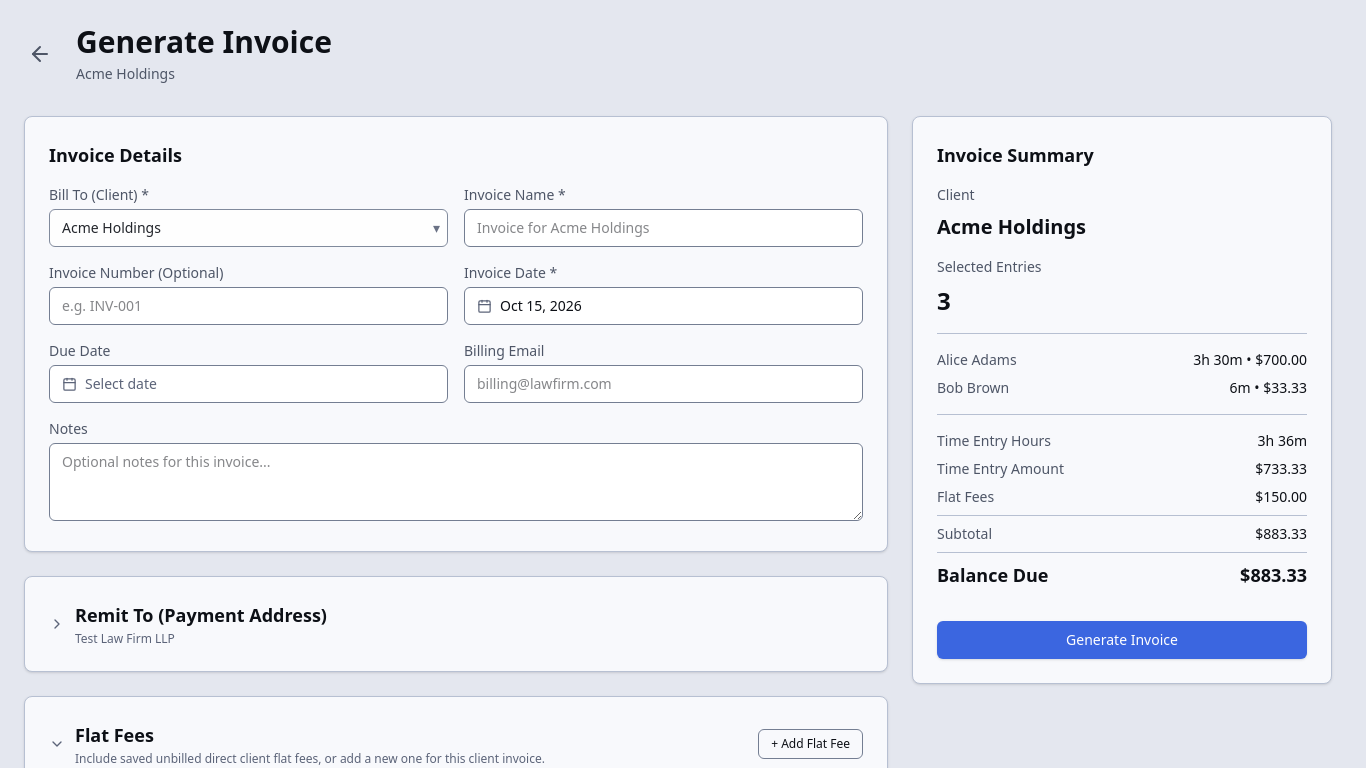
Scenario: client generate-invoice submit › shows the server refusal and stays on the page when the create fails
This screenshot has width=1366, height=768.
Type "March work" into the field with placeholder "Invoice for Acme Holdings" at [664, 228], box 464,209 -> 863,247
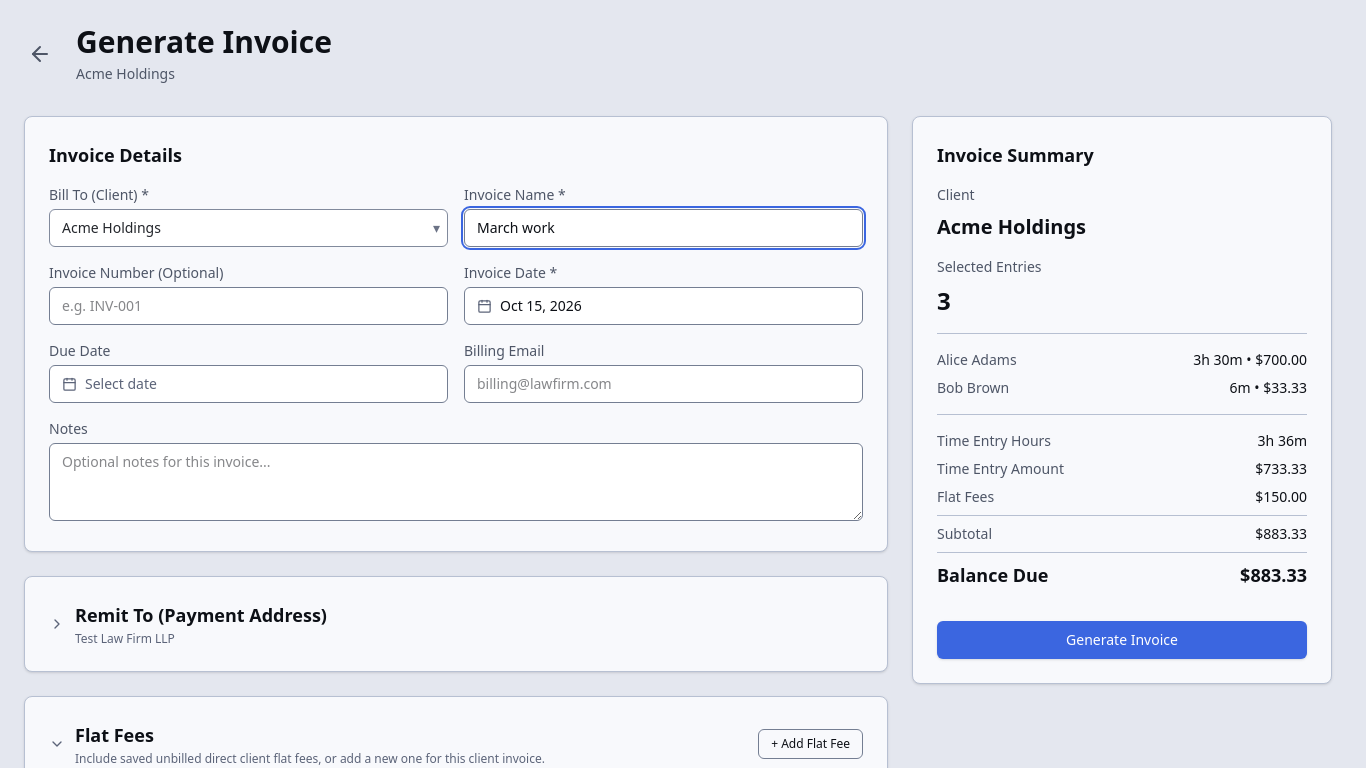
Click the button "Generate Invoice" at [1122, 640], box 937,621 -> 1307,659
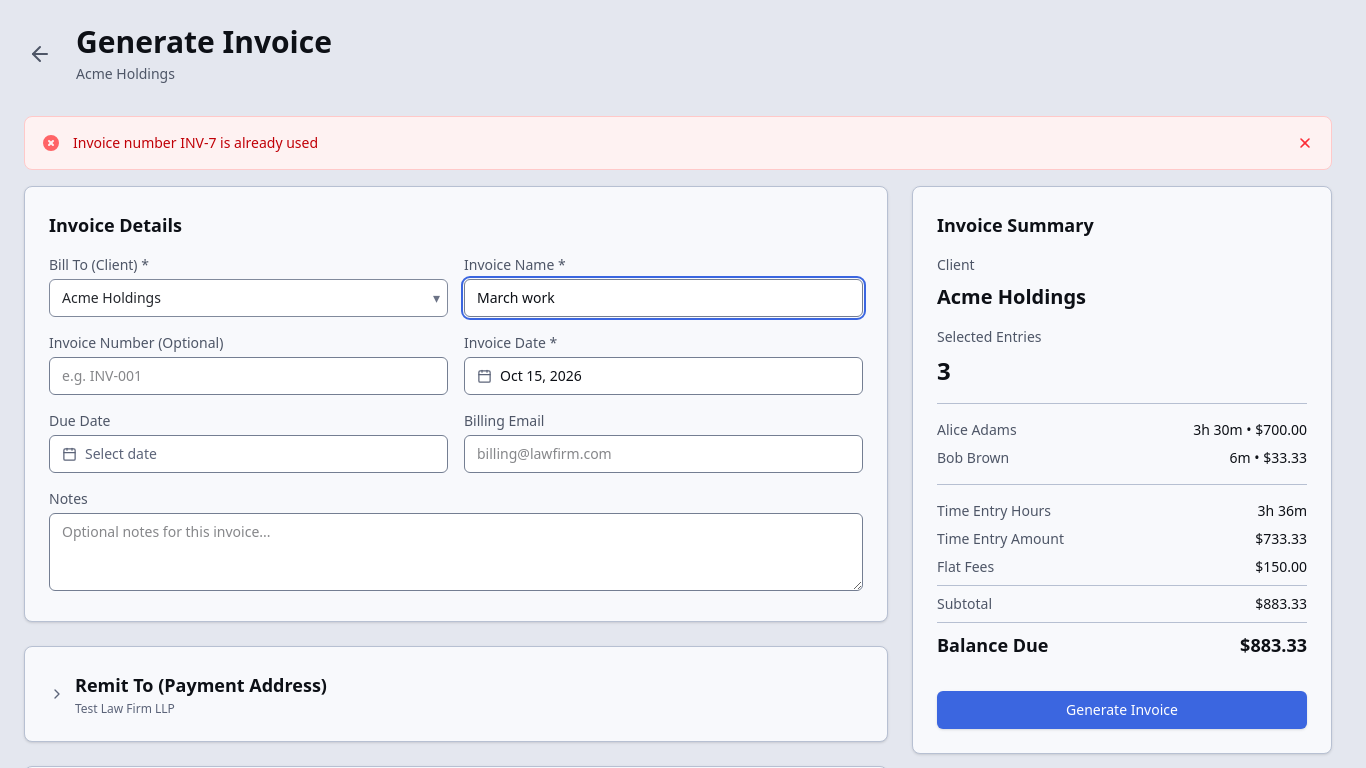
Expected: the text "Invoice number INV-7 is already used" is shown, 73,133 -> 318,152
